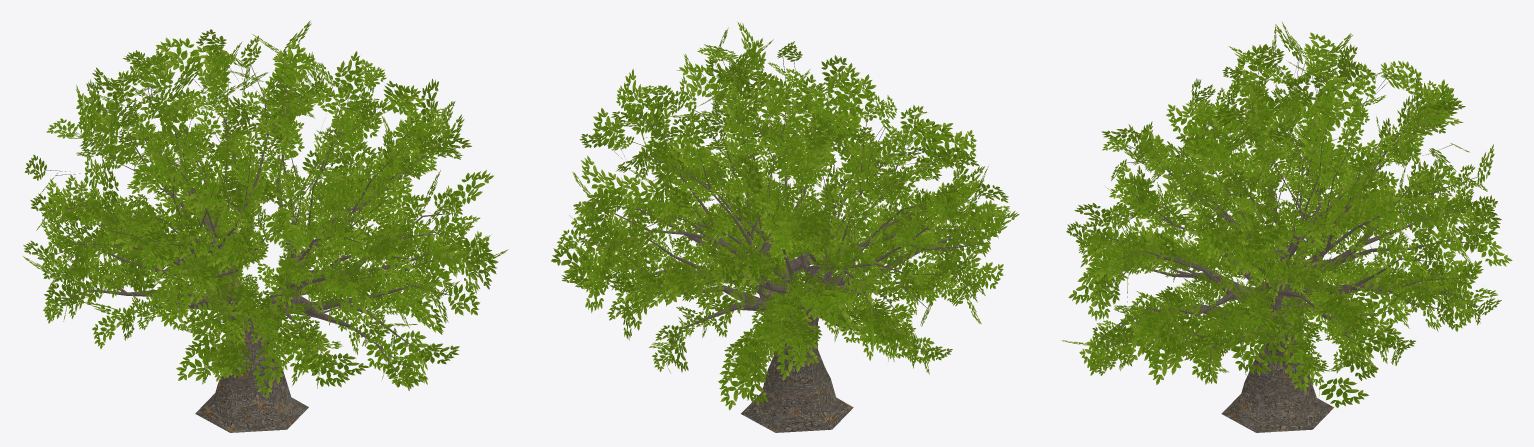
The model's file is Tree_6_1.glb.
The picture shows the model from 3 angles, left to right: view 1: azimuth 30°, elevation 25°; view 2: azimuth 150°, elevation 25°; view 3: azimuth 270°, elevation 25°; orthographic projection.
Visible parts, largest first — view 1: Tree_6_V1; view 2: Tree_6_V1; view 3: Tree_6_V1.
Boxes of the visible parts, x1,y1,x2,y2 form: Tree_6_V1: (23, 20, 508, 432); Tree_6_V1: (551, 22, 1019, 432); Tree_6_V1: (1061, 22, 1512, 432).
Size of the model in its own units: 3.69 by 3.13 by 3.54.
Materials: 1 (1 with a texture image).
